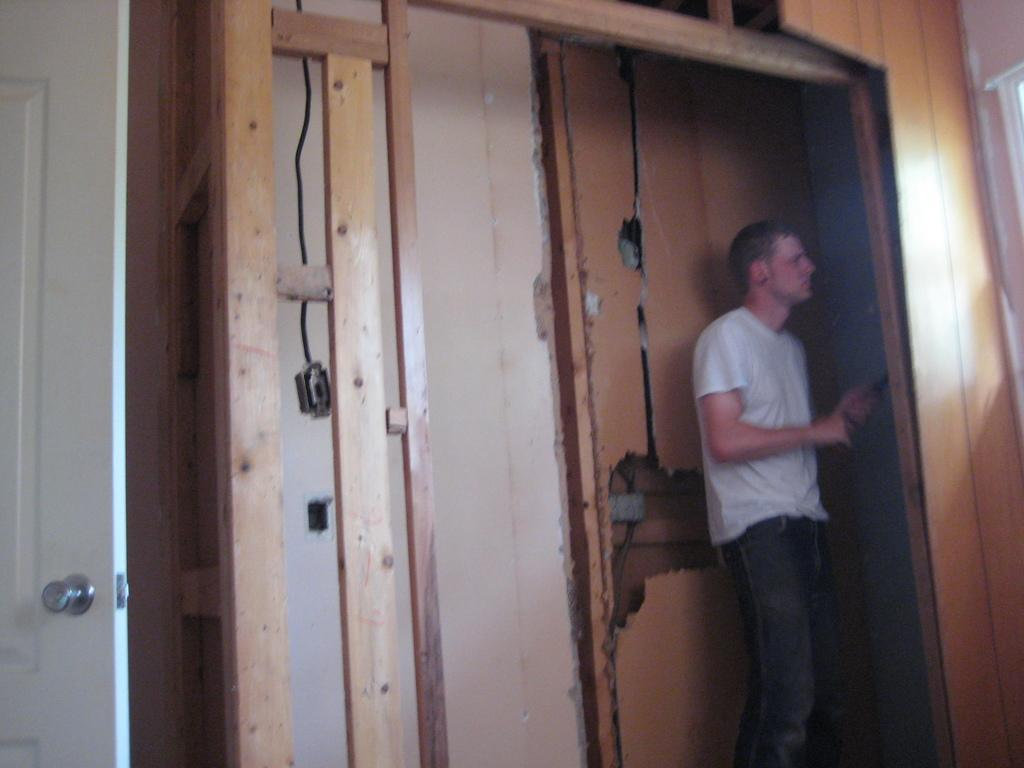door: (1, 3, 125, 766)
handle: (38, 568, 92, 618)
